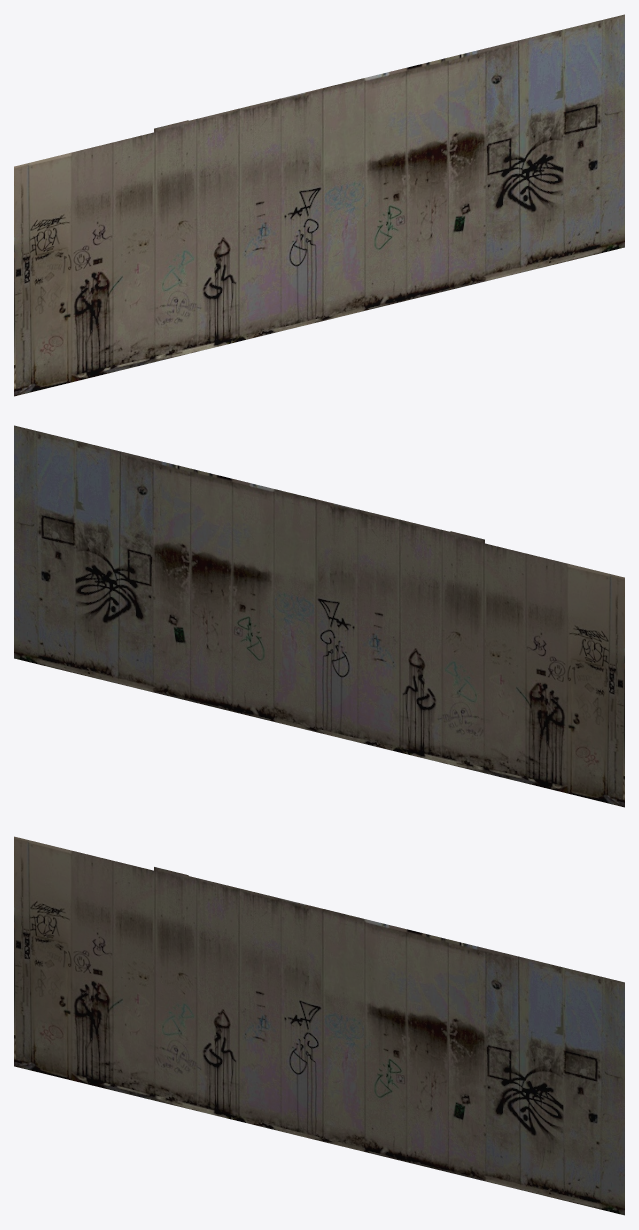
The model's file is metal_panel_fence_2.FBX.
The picture shows the model from 3 angles, top to bottom: view 1: azimuth 30°, elevation 25°; view 2: azimuth 150°, elevation 25°; view 3: azimuth 330°, elevation 25°; orthographic projection.
Parts seen in each view (by area): view 1: metal_panel_fence_2; view 2: metal_panel_fence_2; view 3: metal_panel_fence_2.
Boxes of the visible parts, box(x1,y1,x2,y2) form: metal_panel_fence_2: box(14, 14, 624, 396); metal_panel_fence_2: box(14, 425, 624, 807); metal_panel_fence_2: box(14, 836, 624, 1215).
Bounding box in the file's own units: 879 × 321 × 0.000103.
